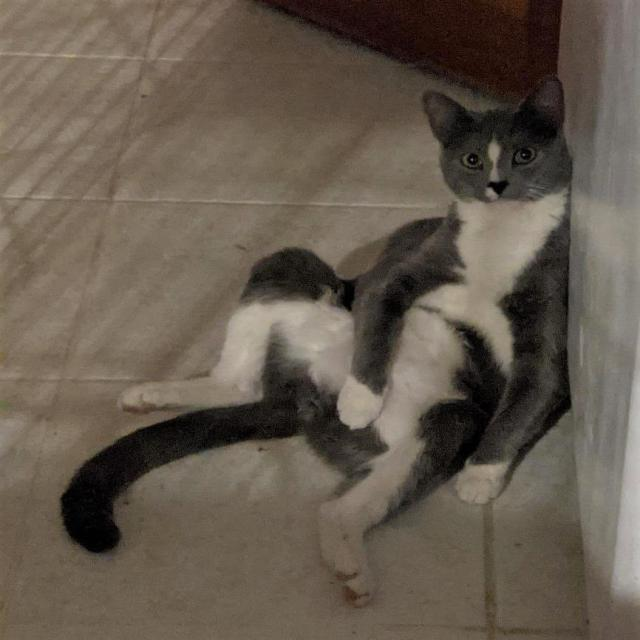russian_blue_cat: (416, 73, 574, 228)
